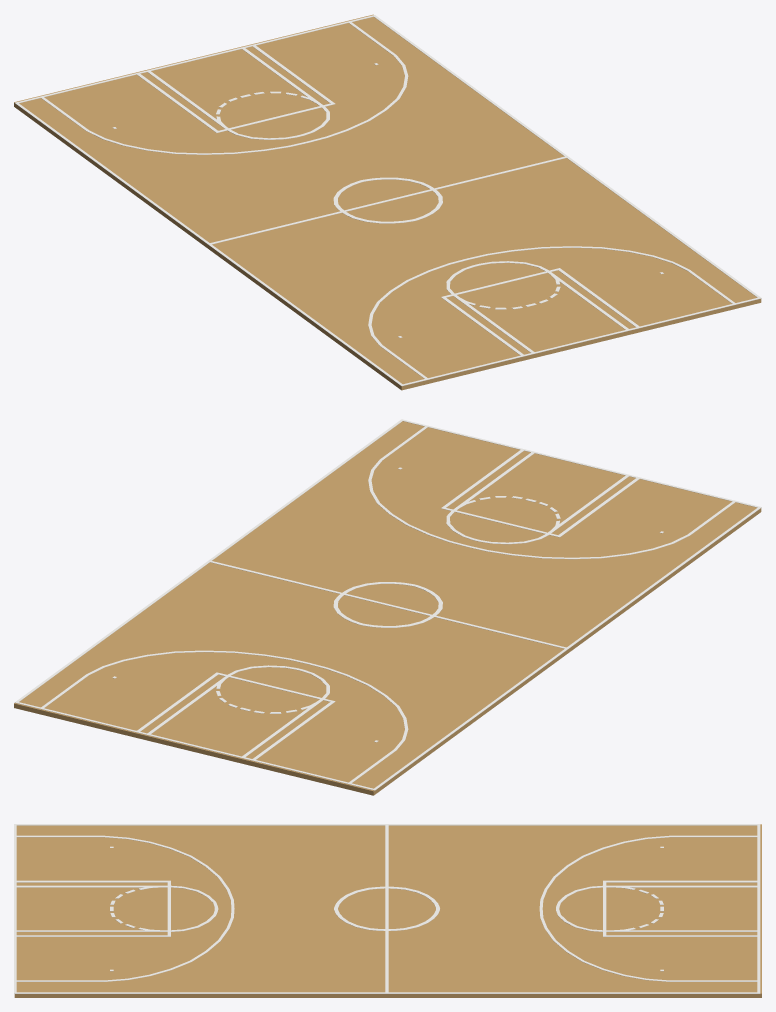
Rendered from Basketball Court.fbx.
The picture shows the model from 3 angles, top to bottom: view 1: azimuth 30°, elevation 25°; view 2: azimuth 150°, elevation 25°; view 3: azimuth 270°, elevation 25°; orthographic projection. The views are drawn at different scales.
Visible parts, largest first — view 1: Basketball Court; view 2: Basketball Court; view 3: Basketball Court.
Part boxes in pixels (left/top/right/bottom): Basketball Court: left=14, top=14, right=761, bottom=390; Basketball Court: left=14, top=419, right=761, bottom=795; Basketball Court: left=14, top=824, right=761, bottom=997.
Size of the model in its own units: 6012 by 76 by 11210.
